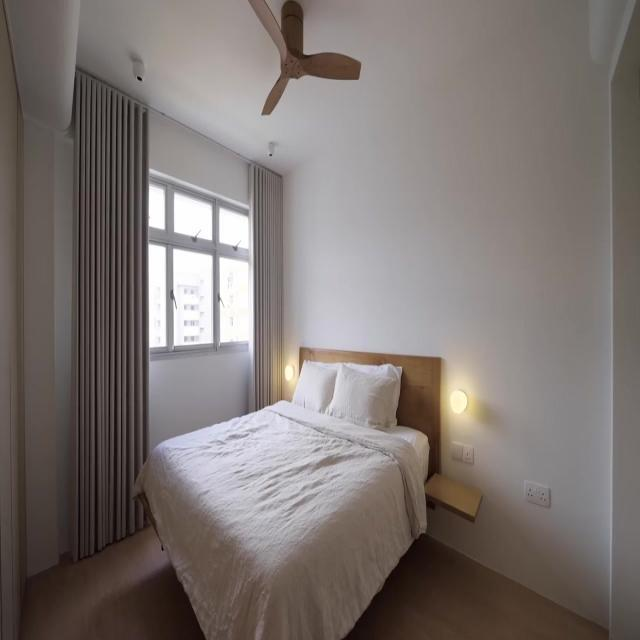obstacle: (132, 346, 442, 638), (423, 471, 482, 524)
